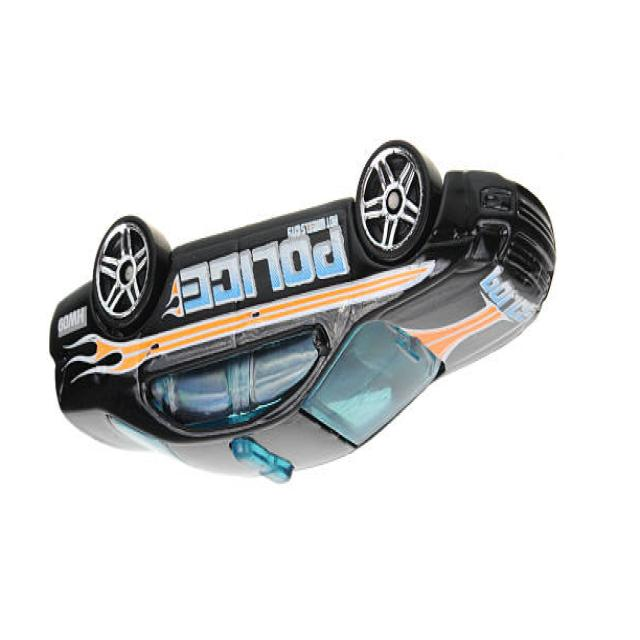Car: (50, 140, 558, 487)
